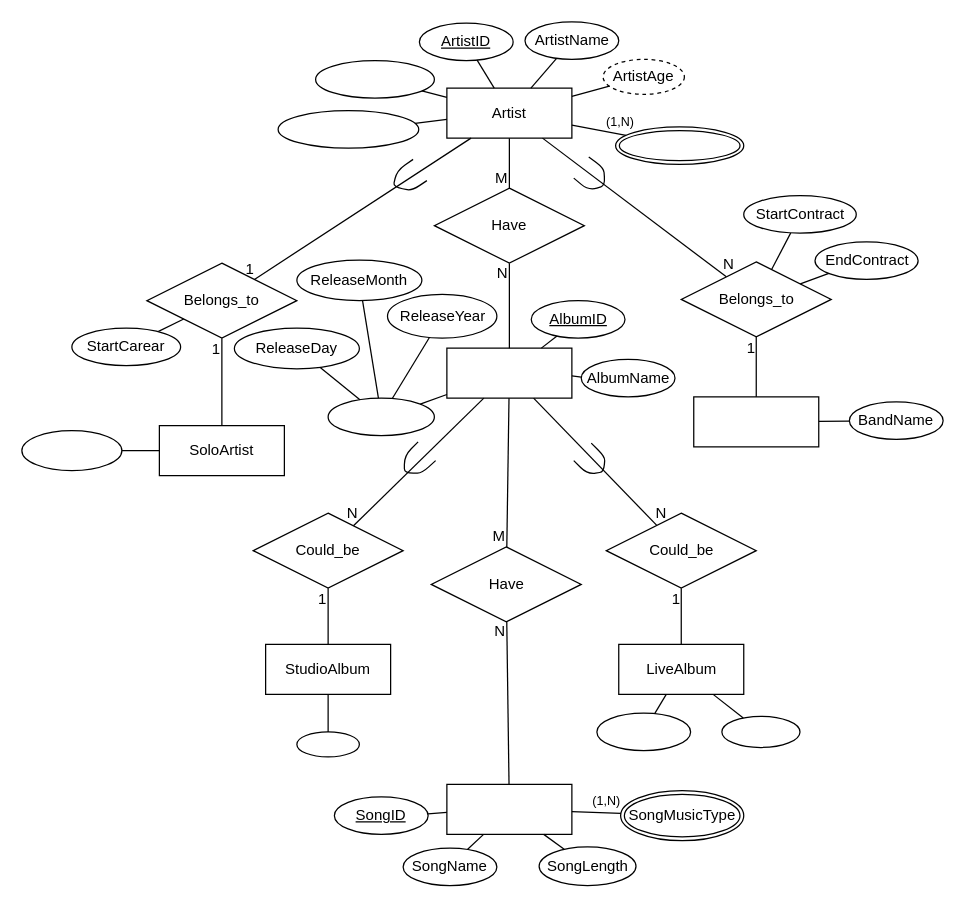
Some shapes in this 965 by 908 pixel diagram are drawn without their labels. Each missing label, with the centre of its shape:
"Album" belongs at (509,372).
"ArtistBirthCountry" belongs at (348,128).
"ArtistBirthYear" belongs at (374,78).
"ArtistInstrument" belongs at (679,145).
"Band" belongs at (755,421).
"Date" belongs at (760,731).
"Location" belongs at (643,731).
"ReleaseDate" belongs at (380,416).
"Song" belongs at (509,808).
"StageName" belongs at (71,450).
"Studio" belongs at (327,744).
